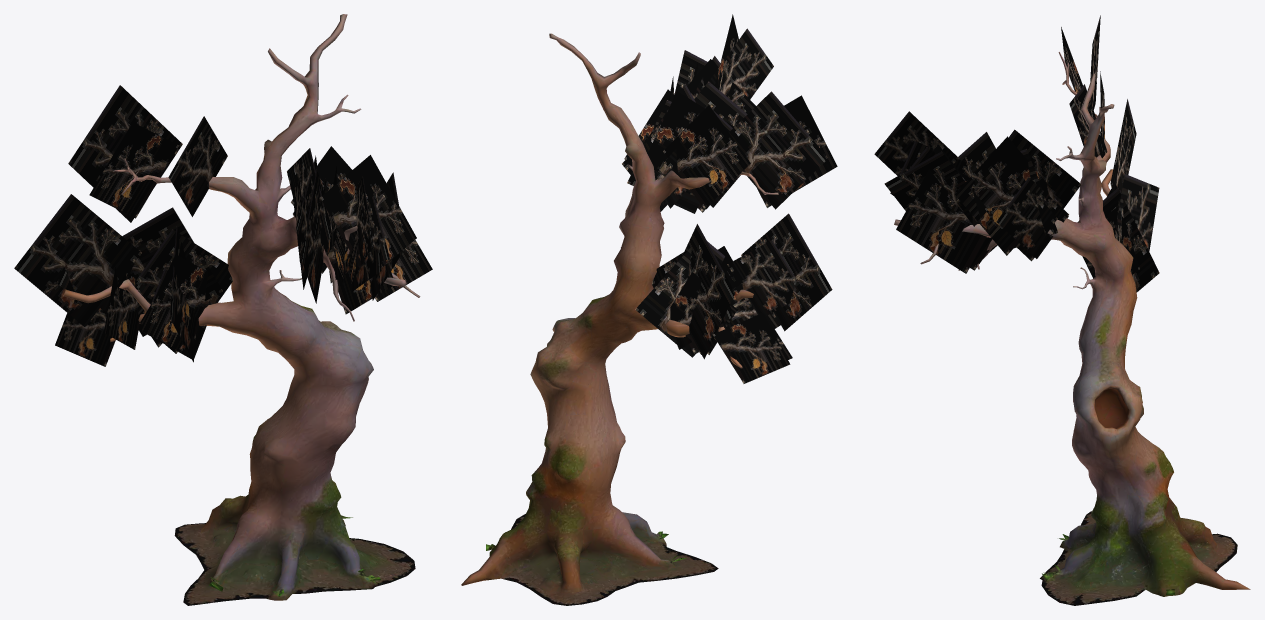
The model's file is dead_2.glb.
The picture shows the model from 3 angles, left to right: view 1: azimuth 30°, elevation 25°; view 2: azimuth 150°, elevation 25°; view 3: azimuth 270°, elevation 25°; orthographic projection. The views are drawn at different scales.
Visible parts, largest first — view 1: Fable_dead_2; view 2: Fable_dead_2; view 3: Fable_dead_2.
Part boxes in pixels (left/top/right/bottom): Fable_dead_2: left=14, top=14, right=432, bottom=605; Fable_dead_2: left=461, top=14, right=837, bottom=605; Fable_dead_2: left=874, top=15, right=1250, bottom=605.
Bounding box in the file's own units: 6.45 × 9.19 × 6.66.
Materials: 2 (2 with a texture image).
